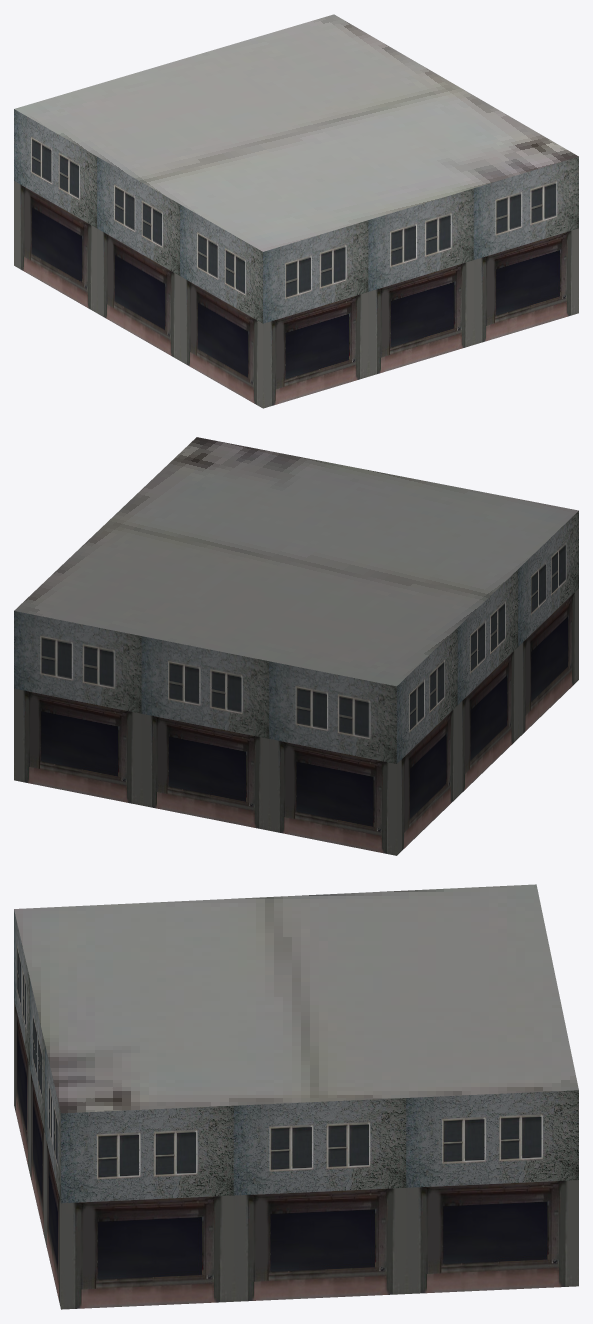
3 views of the same model, one above another, from view 1: azimuth 30°, elevation 25°; view 2: azimuth 150°, elevation 25°; view 3: azimuth 270°, elevation 25° (orthographic). The views are drawn at different scales.
Parts seen in each view (by area): view 1: SketchUp (×5); view 2: SketchUp (×5); view 3: SketchUp (×5).
Part boxes in pixels (x1=…): SketchUp (×5): x1=14, y1=14, x2=578, y2=408; SketchUp (×5): x1=14, y1=437, x2=578, y2=855; SketchUp (×5): x1=14, y1=884, x2=578, y2=1309.
Size of the model in its own units: 15.25 by 15.9 by 6.09.
Materials: 3 (3 with a texture image).
